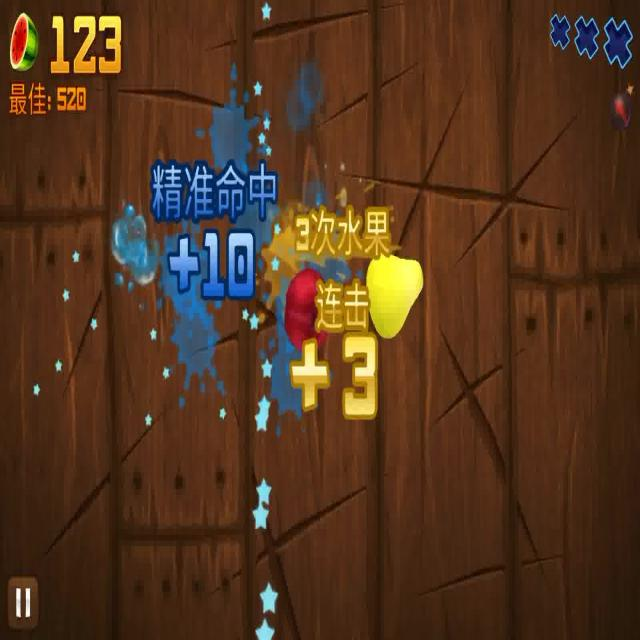fruit: (368, 248, 424, 339), (285, 268, 327, 354)
